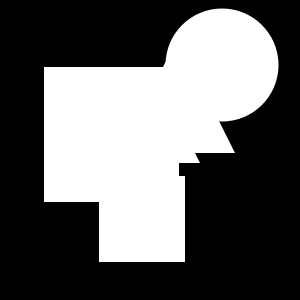circle: (44, 67, 179, 202), (99, 176, 185, 262)
rectangle: (166, 9, 278, 122)
triangle: (120, 38, 235, 153), (118, 81, 200, 163)
